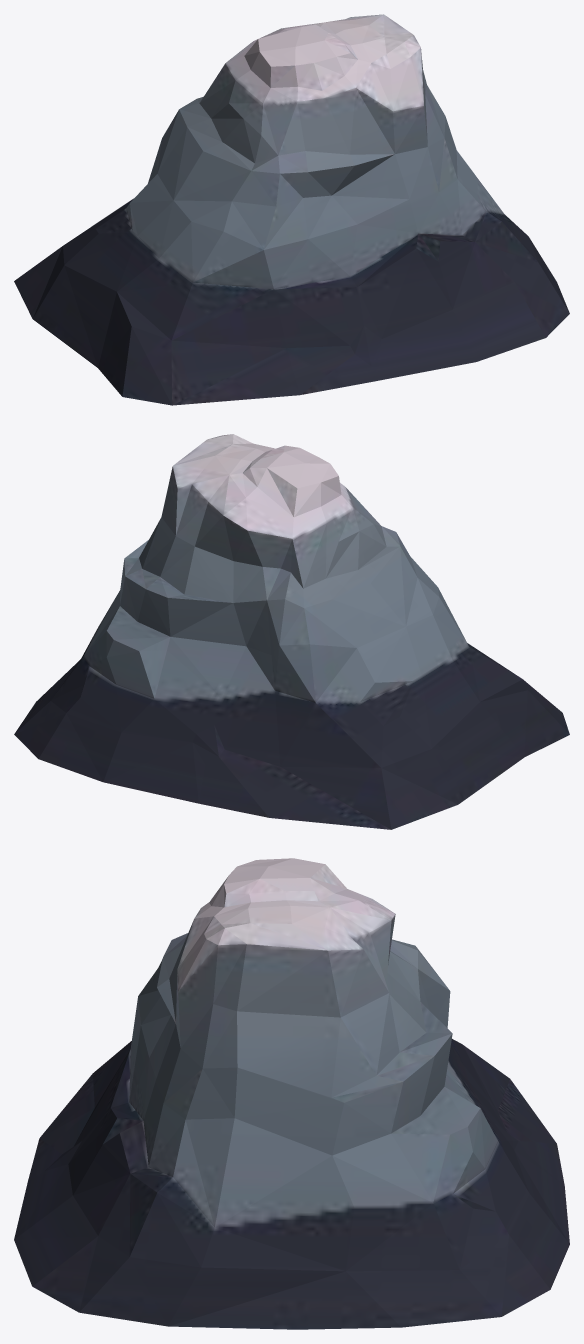
Rendered from mountain_snow.glb.
3 renders of one model, top to bottom at view 1: azimuth 30°, elevation 25°; view 2: azimuth 150°, elevation 25°; view 3: azimuth 270°, elevation 25°, orthographic. The views are drawn at different scales.
Visible parts, largest first — view 1: mountain_snow; view 2: mountain_snow; view 3: mountain_snow.
Boxes of the visible parts, <box> form: mountain_snow: <box>14,14,569,405</box>; mountain_snow: <box>14,434,569,829</box>; mountain_snow: <box>14,858,569,1329</box>.
Size of the model in its own units: 82.14 by 45.93 by 70.5.
Materials: 1 (1 with a texture image).
